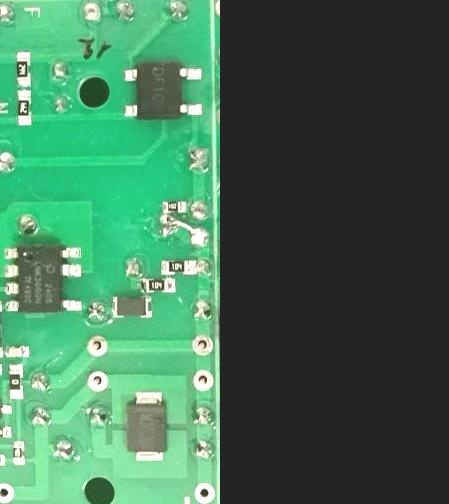chip-capacitor: (6, 343, 31, 357)
chip-resistor: (160, 258, 198, 275), (9, 361, 26, 398), (140, 276, 177, 293), (17, 89, 33, 126), (16, 51, 32, 87), (161, 199, 189, 214), (12, 439, 27, 465), (0, 424, 14, 438)
diode: (126, 388, 171, 464), (110, 294, 155, 319)
ic: (6, 243, 83, 314), (124, 60, 206, 120)
